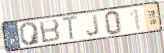0: (104, 10, 122, 36)
1: (130, 7, 142, 32)
B: (38, 18, 62, 44)
J: (86, 13, 101, 37)
Q: (18, 21, 42, 47)
T: (61, 14, 80, 42)
